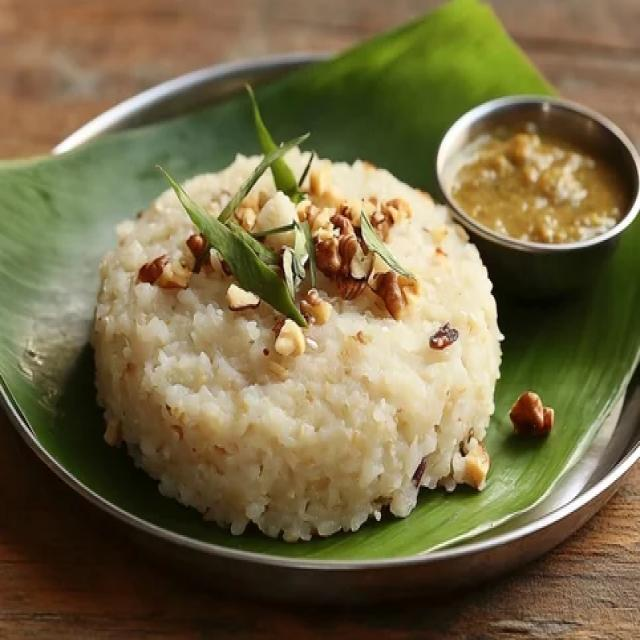KURMA: (453, 124, 633, 239)
PONGAL: (91, 149, 501, 542)
